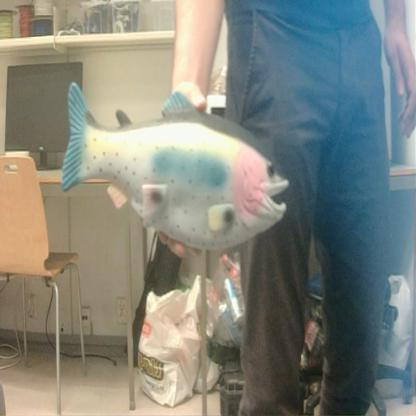rubberfish: (59, 77, 293, 255)
